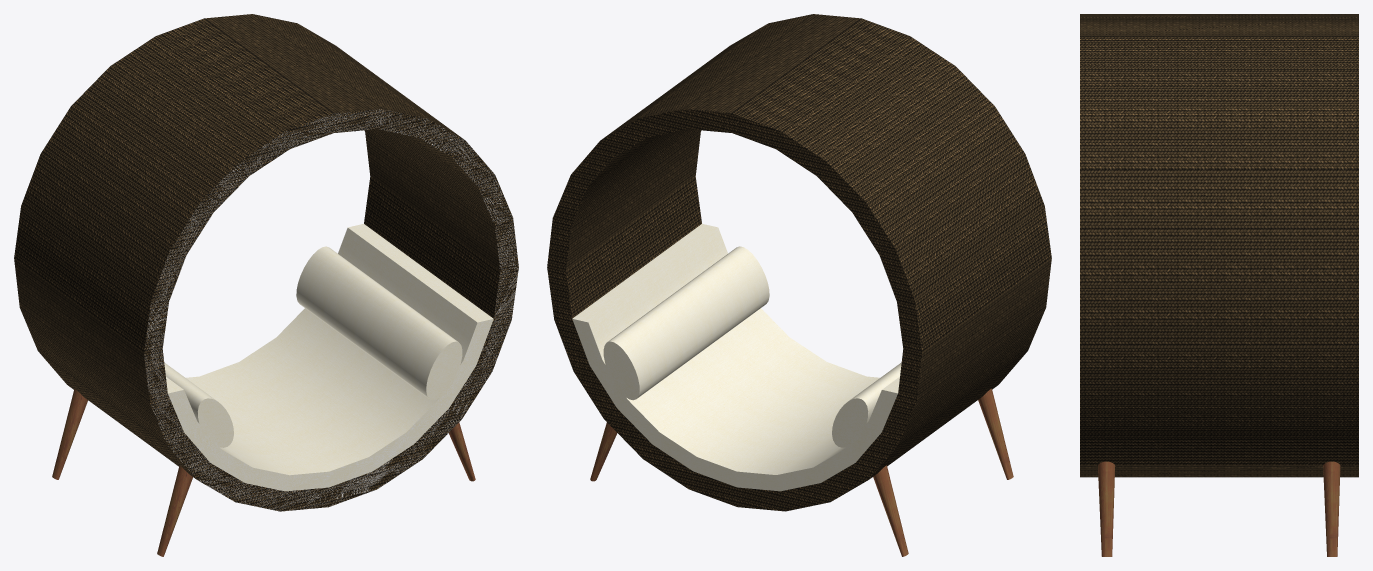
The model's file is daybed furniture 1.dae.
3 views of the same model, side by side, from view 1: azimuth 30°, elevation 25°; view 2: azimuth 150°, elevation 25°; view 3: azimuth 270°, elevation 25° (orthographic). The views are drawn at different scales.
Visible parts, largest first — view 1: group_0 (×3), group_6, group_5, group_1, group_2; view 2: group_0 (×3), group_6, group_5, group_1, group_2; view 3: group_0, group_4, group_3.
Boxes of the visible parts, left/top/right/bottom form: group_0 (×3): left=14, top=14, right=518, bottom=511; group_6: left=296, top=246, right=462, bottom=400; group_5: left=164, top=362, right=233, bottom=447; group_1: left=157, top=465, right=192, bottom=556; group_2: left=52, top=389, right=87, bottom=479; group_0 (×3): left=547, top=14, right=1051, bottom=511; group_6: left=603, top=246, right=769, bottom=400; group_5: left=832, top=362, right=901, bottom=447; group_1: left=978, top=388, right=1013, bottom=479; group_2: left=873, top=465, right=908, bottom=556; group_0: left=1080, top=14, right=1358, bottom=477; group_4: left=1323, top=461, right=1340, bottom=556; group_3: left=1098, top=461, right=1115, bottom=556.
Size of the model in its own units: 78.73 by 47.24 by 82.76.
5 materials, 4 textured.
